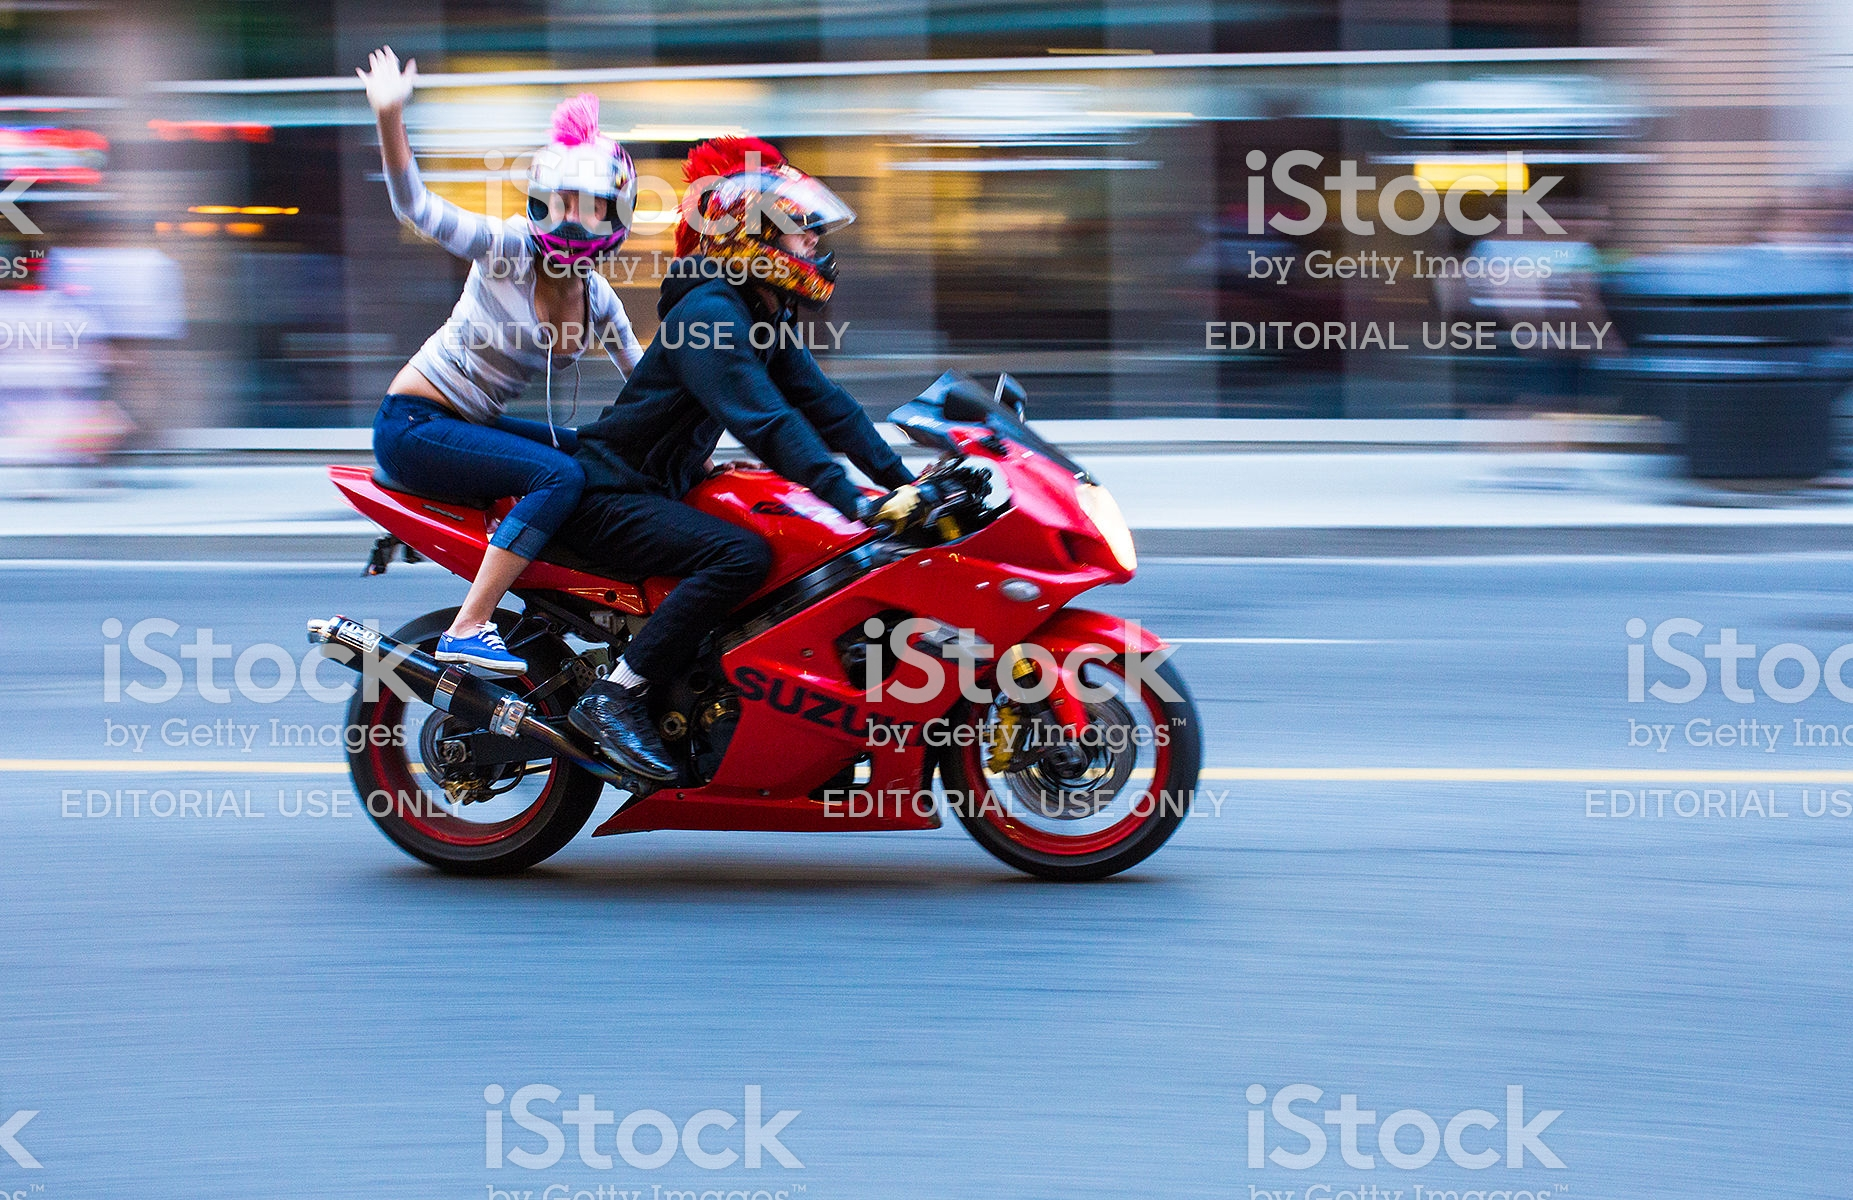helmet: (691, 148, 850, 308), (525, 128, 635, 275)
